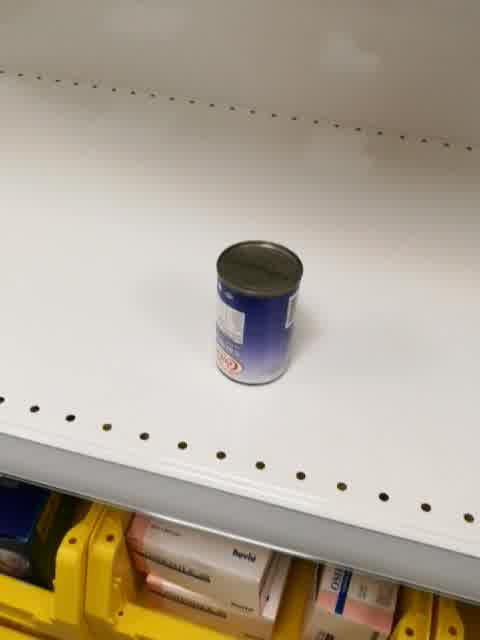sardine: (214, 240, 304, 386)
